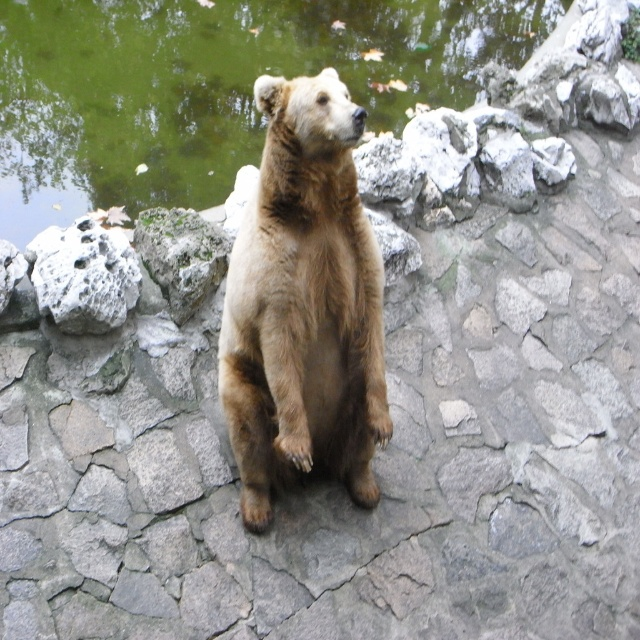Brown bear: (217, 64, 394, 535)
